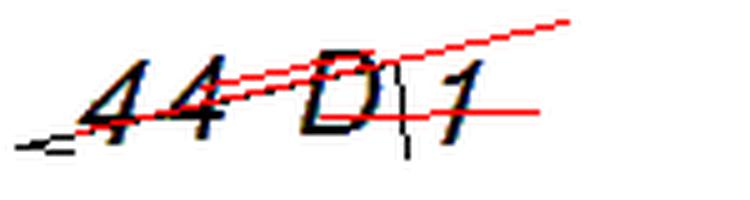1: (424, 55, 493, 154)
4: (151, 48, 241, 148), (68, 53, 158, 151)
D: (290, 41, 395, 143)
